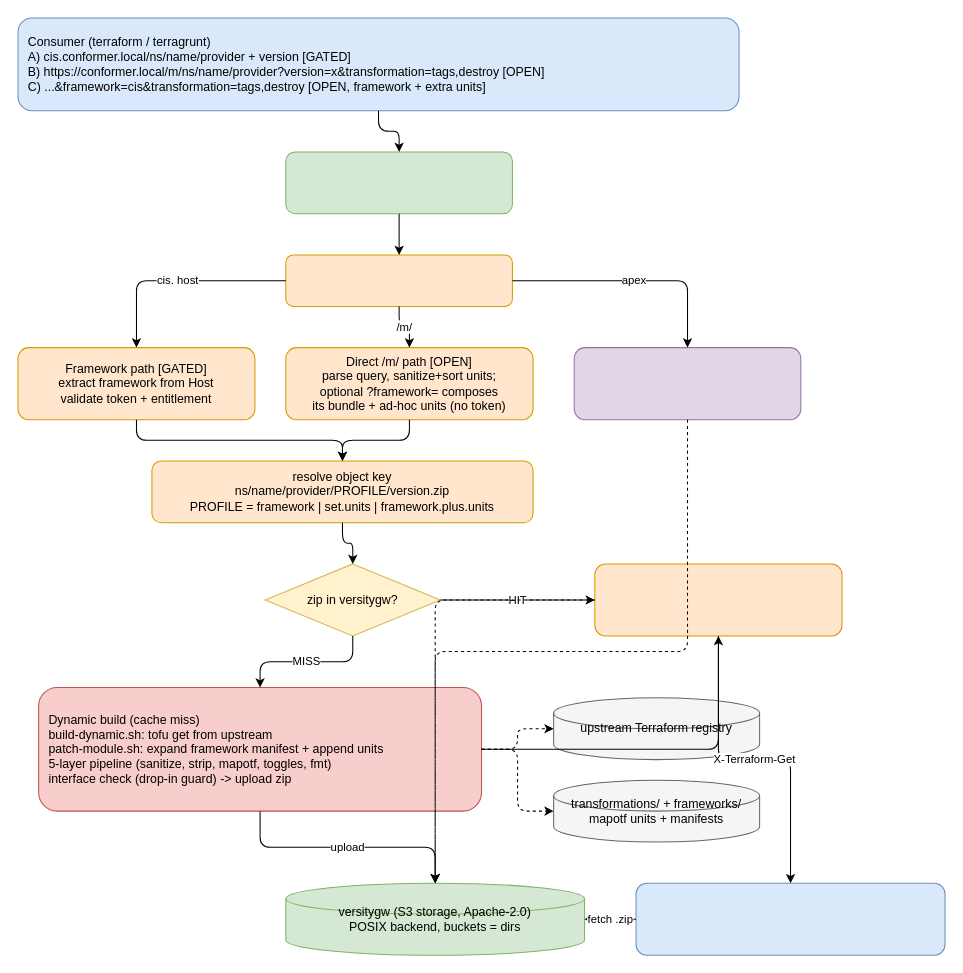
This 963x973 diagram has some shape labels left out. Each missing label, with the centre of its shape:
"Caddy wildcard *.conformer.local + apex reverse proxy + local/real TLS" goes at (398,182).
"GET /v1/catalog [OPEN] frameworks + units + cached modules (discovery)" goes at (687,383).
"presigned GET URL (sigv4) X-Terraform-Get, 10 min public endpoint" goes at (718,599).
"Registry API (Go) route by Host header / path" goes at (398,280).
"terraform downloads zip direct from versitygw -> unpack -> plan" goes at (790,918).
